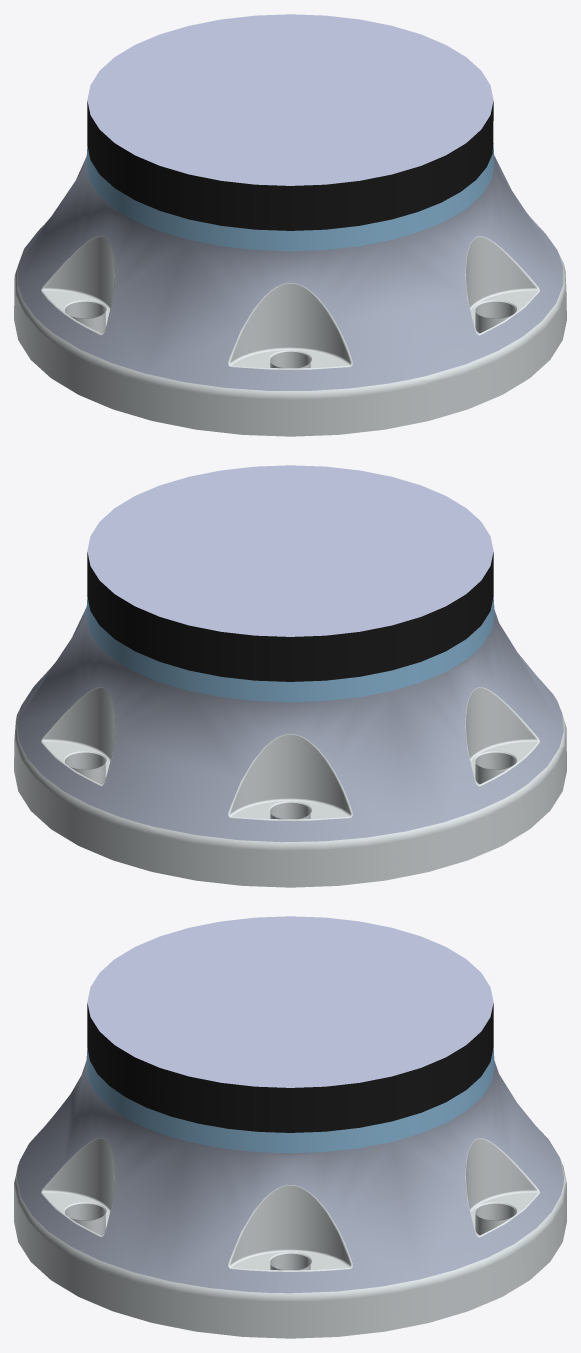
The picture shows the model from 3 angles, top to bottom: view 1: azimuth 30°, elevation 25°; view 2: azimuth 150°, elevation 25°; view 3: azimuth 270°, elevation 25°; orthographic projection.
Visible parts, largest first — view 1: base; view 2: base; view 3: base.
Part boxes in pixels (<box>): base: <box>14,14,566,436</box>; base: <box>14,465,566,887</box>; base: <box>14,916,566,1338</box>.
Bounding box in the file's own units: 0.245 × 0.245 × 0.1074.
